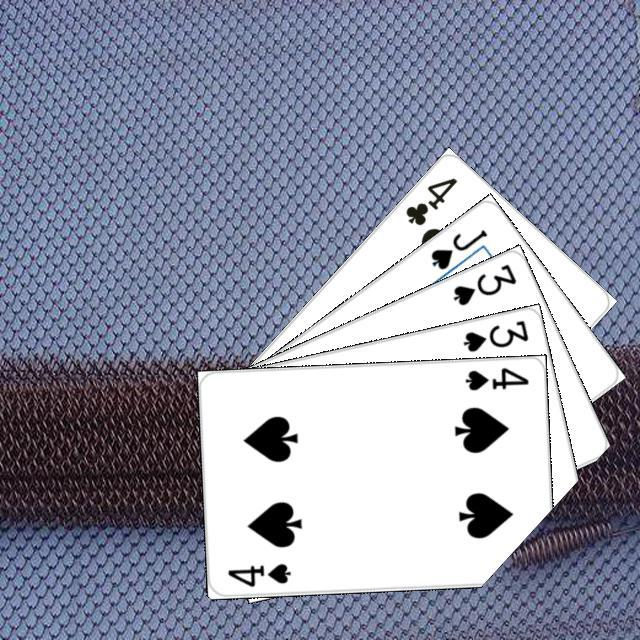3s: (448, 259, 518, 308), (458, 315, 530, 354)
4c: (400, 172, 459, 228)
4s: (222, 558, 293, 589), (460, 362, 530, 393)
Js: (425, 224, 489, 272)
